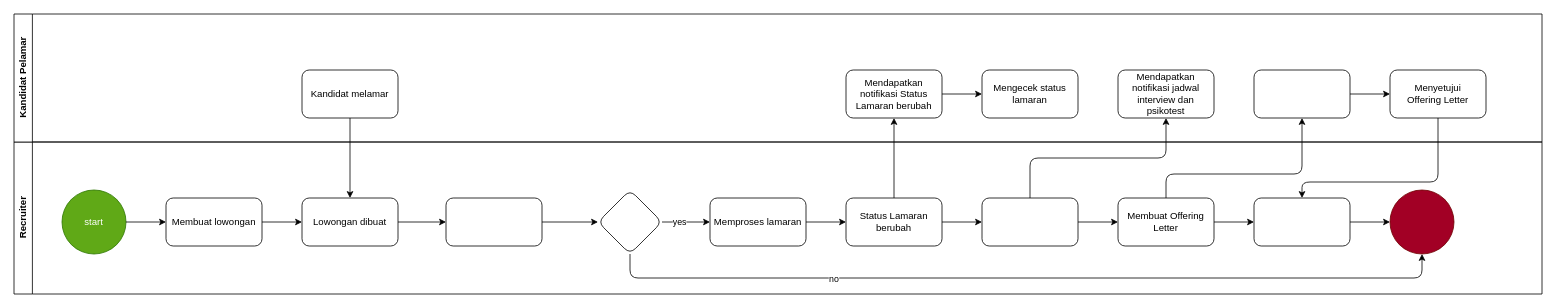
Image size: 1556x308. Some labels were removed from this diagram. The shapes that lost their labels are listed below. From the top down, each one's centre as x and y in pixels, then its label:
At point (1301, 93): "Mendapatkan Offering Letter".
At point (493, 221): "Sistem memfilter kandidat".
At point (629, 221): "isQualified?".
At point (1029, 221): "Menjadwalkan interview & psikotest".
At point (1301, 221): "Kandidat diterima".
At point (1421, 221): "end".
